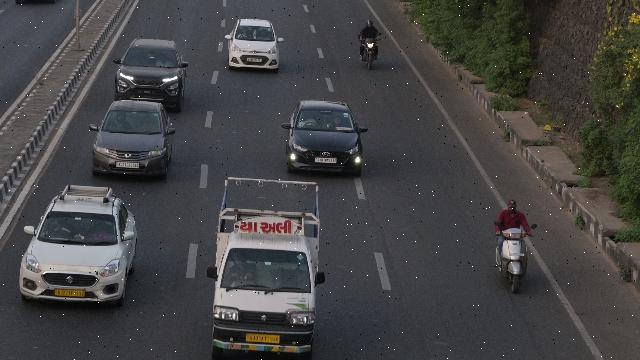With Helmet: (364, 18, 376, 30)
Without Helmet: (506, 197, 518, 212)
